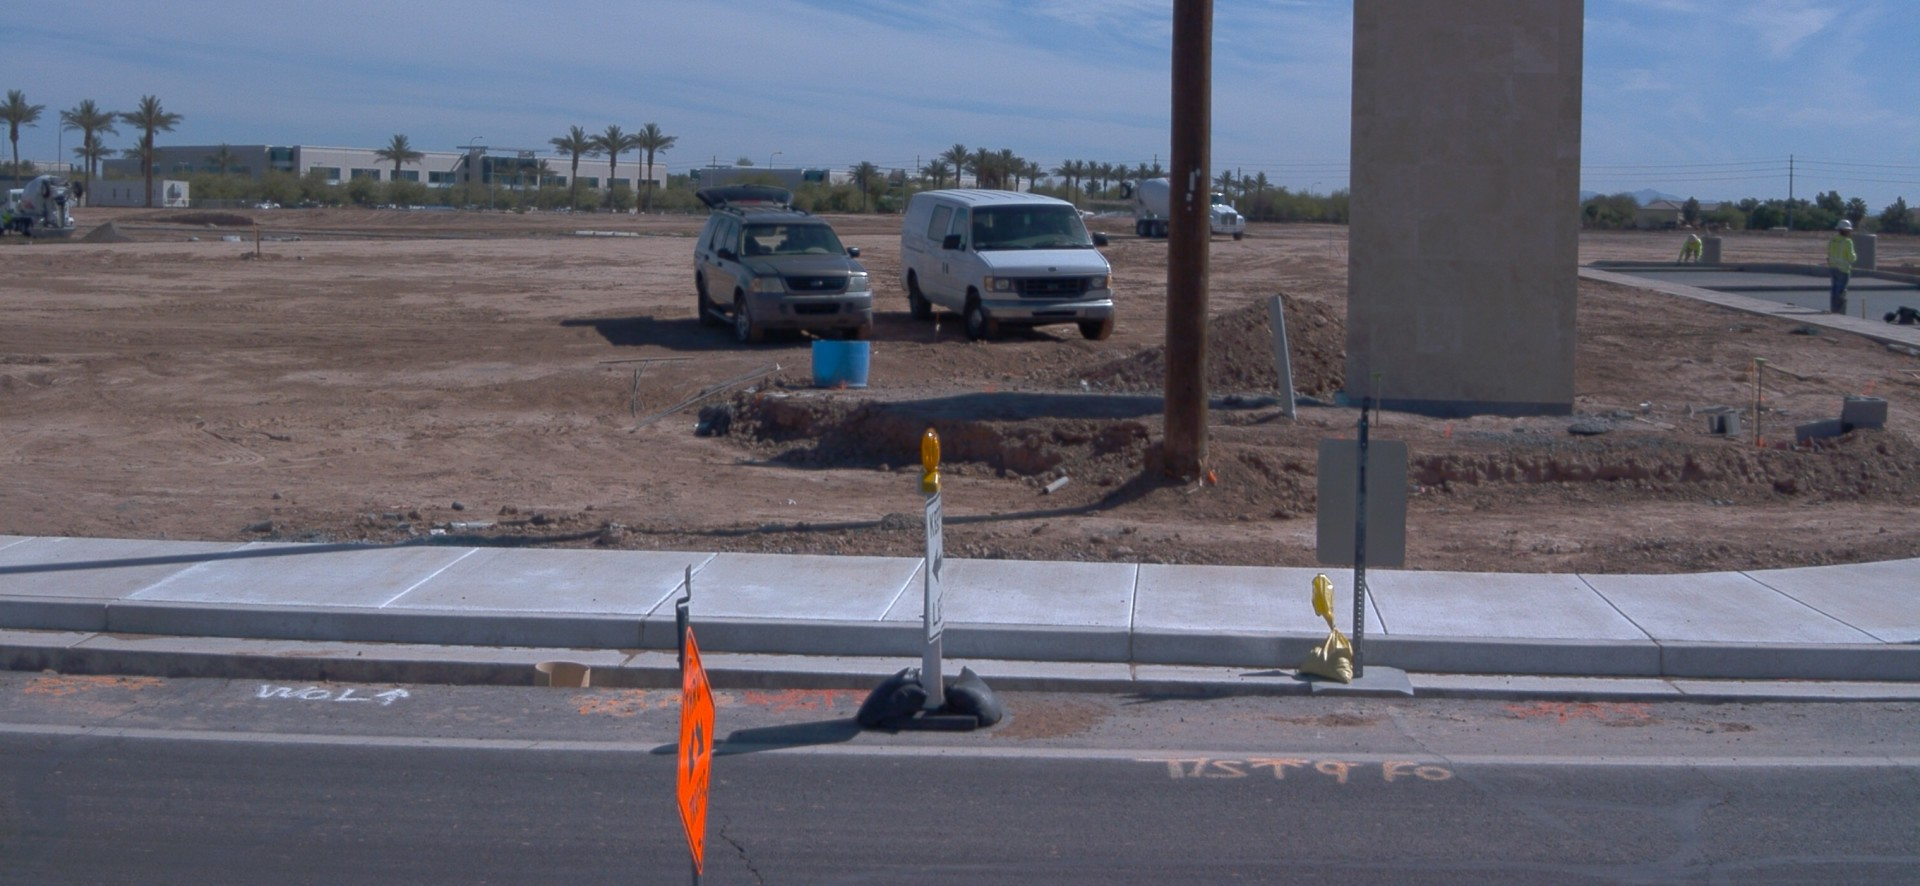TYPE_PEDESTRIAN: (1826, 217, 1858, 316), (1673, 230, 1706, 268), (1, 205, 15, 238)
TYPE_VEHICLE: (896, 186, 1117, 343), (693, 182, 879, 347), (1120, 177, 1245, 243), (1, 173, 84, 239), (1077, 207, 1096, 220)
